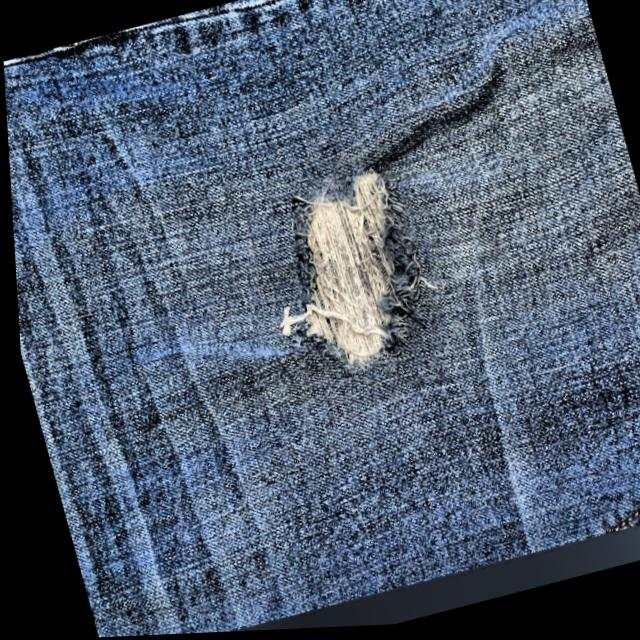Hole: (229, 130, 459, 409)
